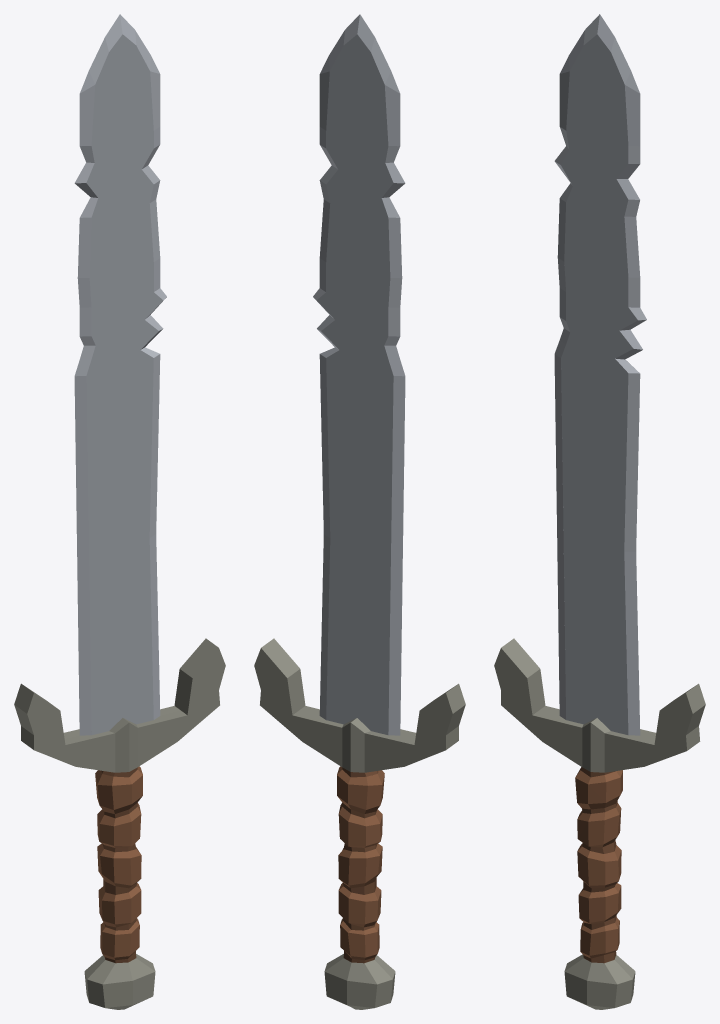
Rendered from Sword.glb.
The picture shows the model from 3 angles, left to right: view 1: azimuth 30°, elevation 25°; view 2: azimuth 150°, elevation 25°; view 3: azimuth 330°, elevation 25°; orthographic projection.
Visible parts, largest first — view 1: Sword; view 2: Sword; view 3: Sword.
Boxes of the visible parts, bbox=[...] form: Sword: bbox=[14, 14, 225, 1009]; Sword: bbox=[254, 14, 465, 1009]; Sword: bbox=[494, 14, 705, 1009].
Bounding box in the file's own units: 1.14 × 5.45 × 0.2611.
